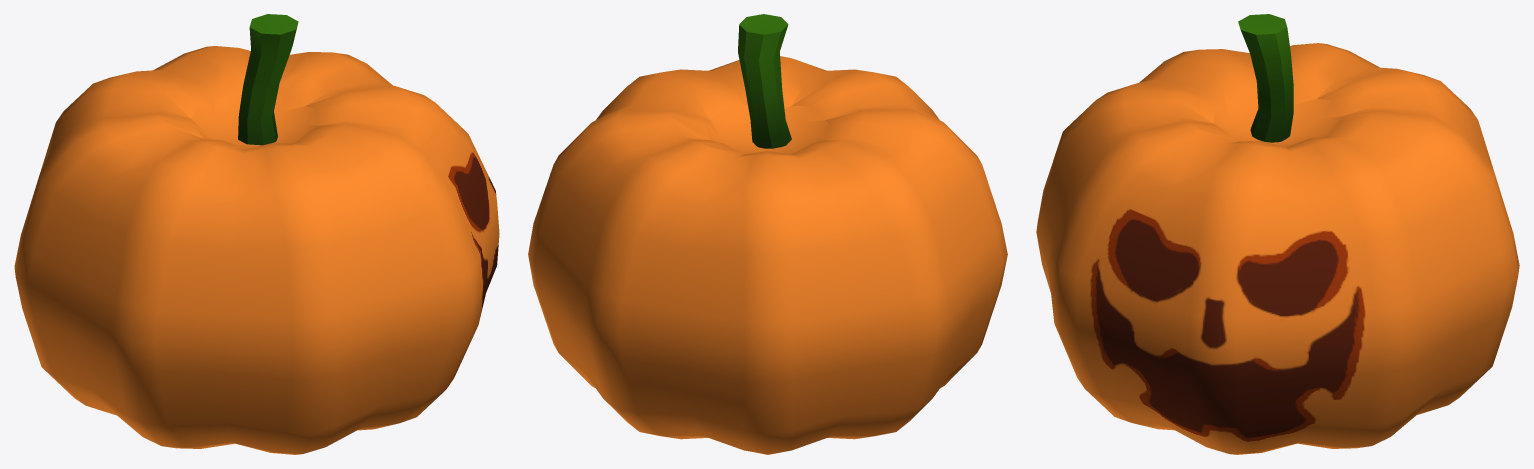
The model's file is Pumpkin.fbx.
3 renders of one model, left to right at view 1: azimuth 30°, elevation 25°; view 2: azimuth 150°, elevation 25°; view 3: azimuth 270°, elevation 25°, orthographic. The views are drawn at different scales.
Parts seen in each view (by area): view 1: polySurface291; view 2: polySurface291; view 3: polySurface291.
Part boxes in pixels (x1=…): polySurface291: x1=14, y1=14, x2=499, y2=454; polySurface291: x1=528, y1=14, x2=1007, y2=454; polySurface291: x1=1036, y1=14, x2=1519, y2=454.
Bounding box in the file's own units: 12.74 × 10.8 × 12.6.
1 material, 1 textured.
